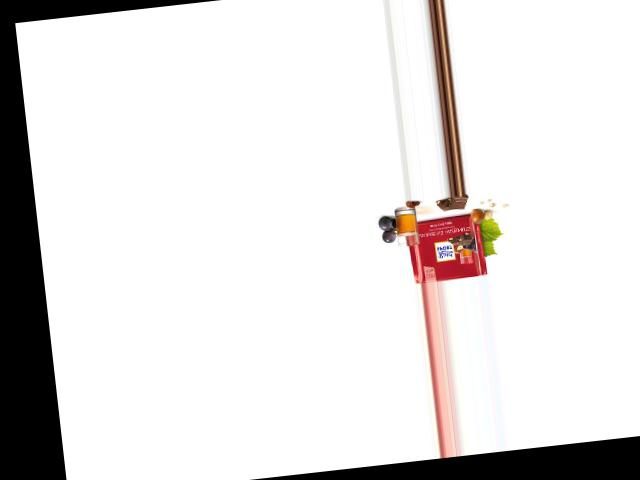chocolate: (407, 213, 489, 283)
